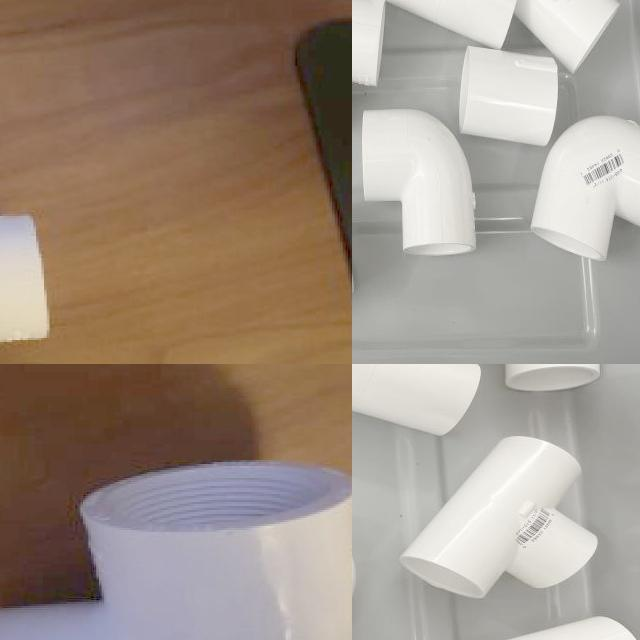L Joint: (361, 109, 478, 259), (529, 116, 640, 263)
T Joint: (399, 436, 597, 599), (352, 364, 483, 439), (379, 0, 518, 51)
